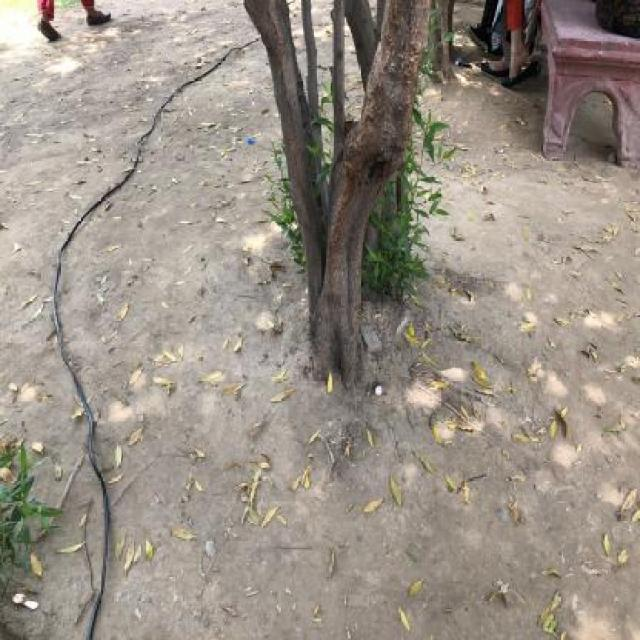garbage: (369, 385, 392, 405), (245, 129, 262, 156)
